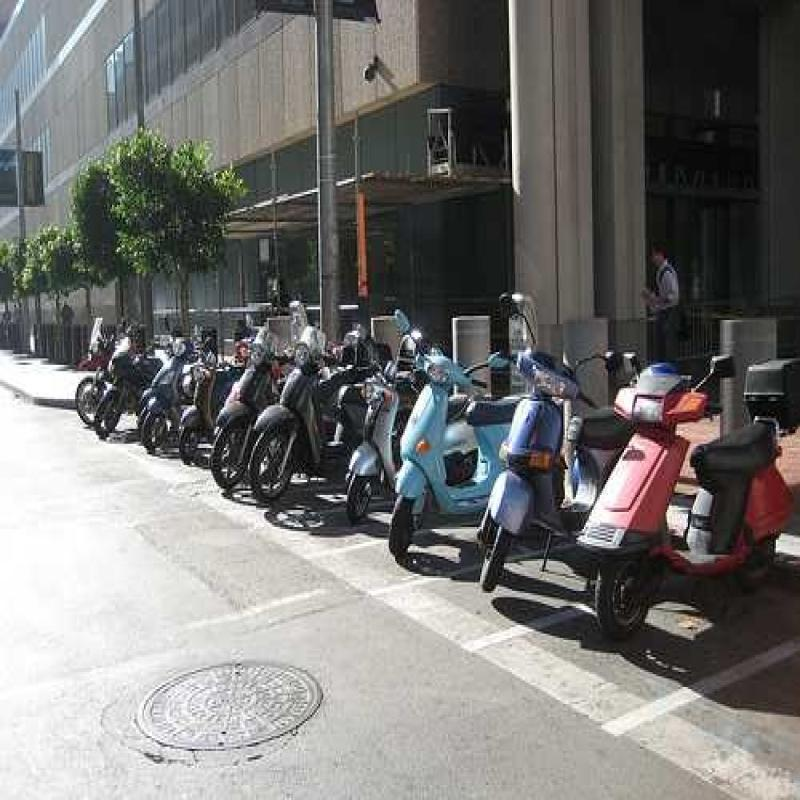bike: (594, 347, 793, 632), (481, 306, 598, 634), (390, 313, 497, 571)
